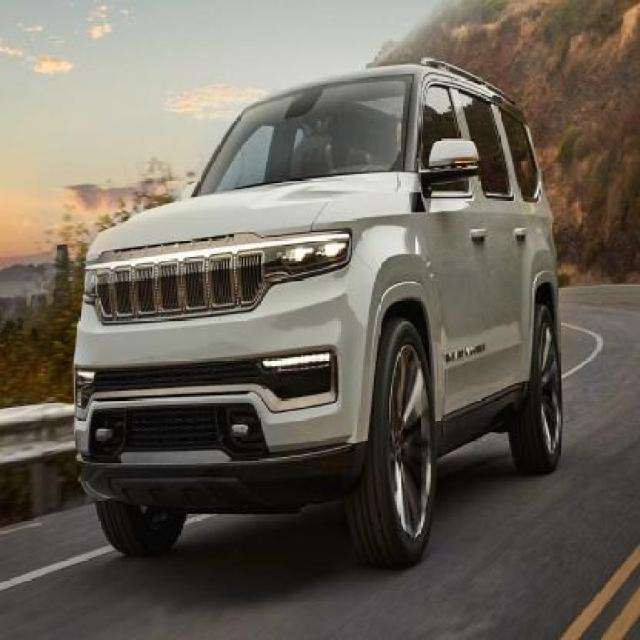Jeep: (61, 56, 568, 566)
